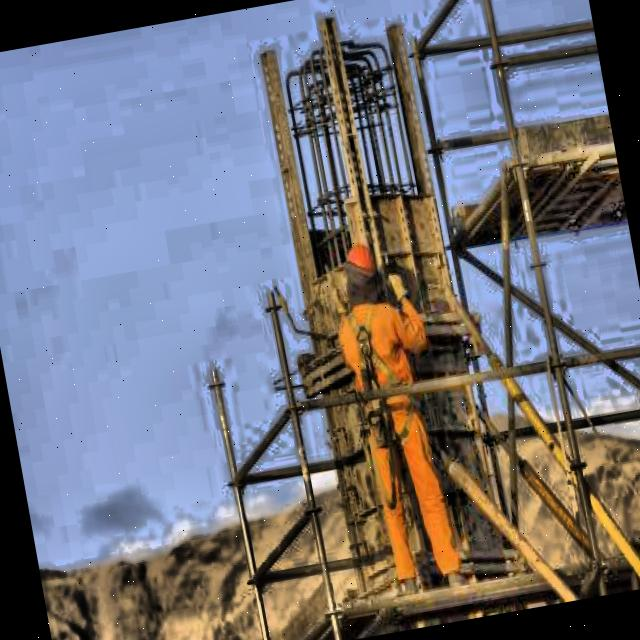helmet: (341, 236, 386, 308)
